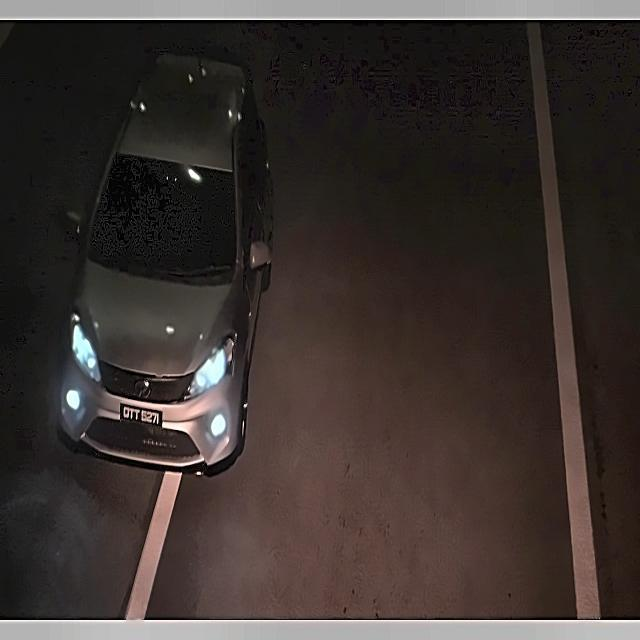car: (114, 398, 168, 437)
